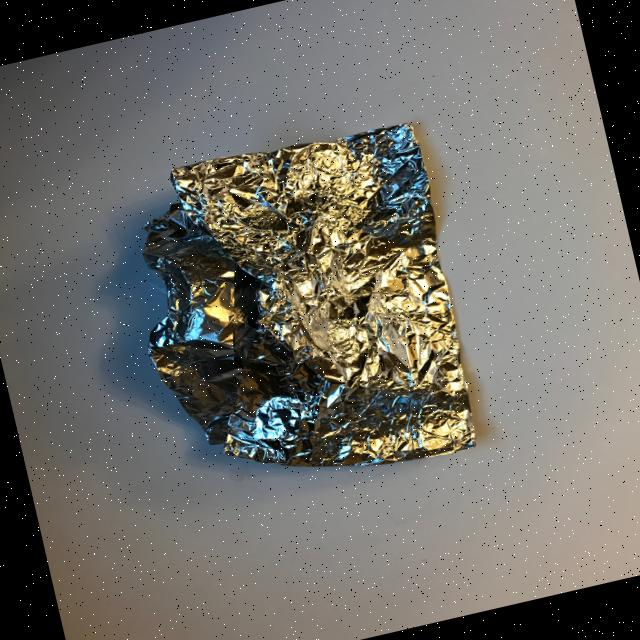metal: (109, 110, 490, 514)
